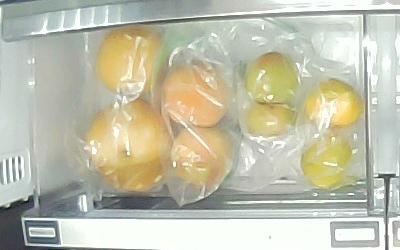peach_vinyl: (163, 64, 229, 127), (171, 126, 234, 185)
pear_vinyl: (88, 99, 172, 190), (97, 27, 167, 96)
tangerine_vinyl: (306, 77, 362, 129), (301, 135, 352, 190)
tomato_vinyl: (244, 52, 301, 105), (246, 102, 297, 137)
